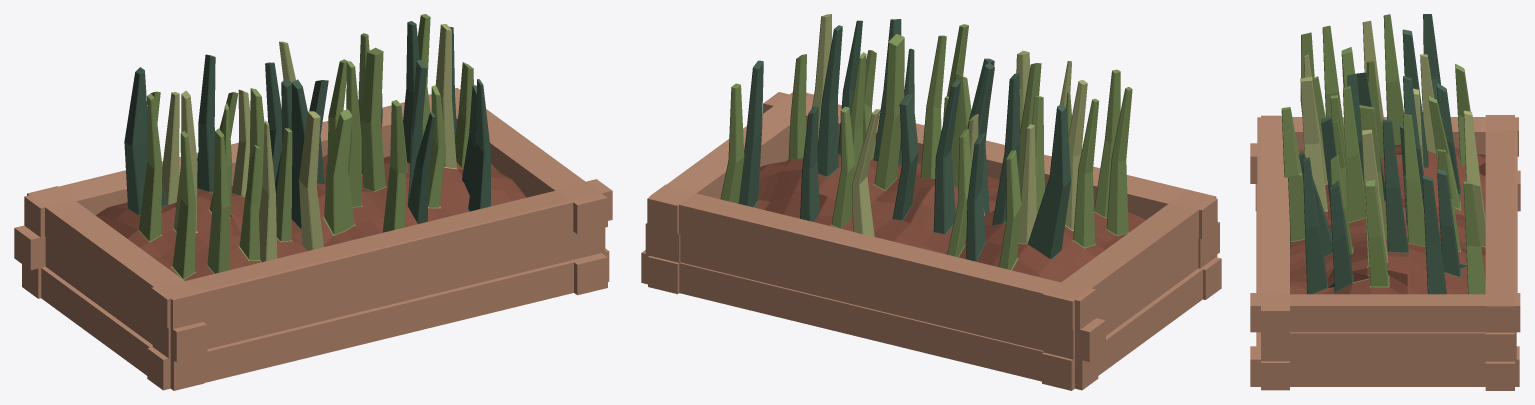
The model's file is planting_area_3_garden.fbx.
3 renders of one model, left to right at view 1: azimuth 30°, elevation 25°; view 2: azimuth 150°, elevation 25°; view 3: azimuth 270°, elevation 25°, orthographic. The views are drawn at different scales.
Parts seen in each view (by area): view 1: planting_area_3_garden, Cube.020, Cube.017, Cube.021, Cube.019; view 2: planting_area_3_garden, Cube.020, Cube.017, Cube.019, Cube.021; view 3: planting_area_3_garden, Cube.020, Cube.017, Cube.019, Cube.021.
Boxes of the visible parts, bbox=[...] form: planting_area_3_garden: bbox=[14, 88, 612, 390]; Cube.020: bbox=[138, 14, 473, 279]; Cube.017: bbox=[124, 21, 491, 230]; Cube.021: bbox=[162, 24, 457, 262]; Cube.019: bbox=[96, 82, 526, 280]; planting_area_3_garden: bbox=[641, 92, 1221, 390]; Cube.020: bbox=[720, 24, 1132, 270]; Cube.017: bbox=[738, 19, 1071, 261]; Cube.019: bbox=[754, 67, 1145, 282]; Cube.021: bbox=[812, 14, 1087, 244]; planting_area_3_garden: bbox=[1250, 115, 1520, 390]; Cube.020: bbox=[1281, 14, 1485, 294]; Cube.017: bbox=[1299, 14, 1466, 294]; Cube.019: bbox=[1290, 144, 1485, 294]; Cube.021: bbox=[1300, 20, 1486, 267].
Size of the model in its own units: 123 by 63.85 by 70.22.
